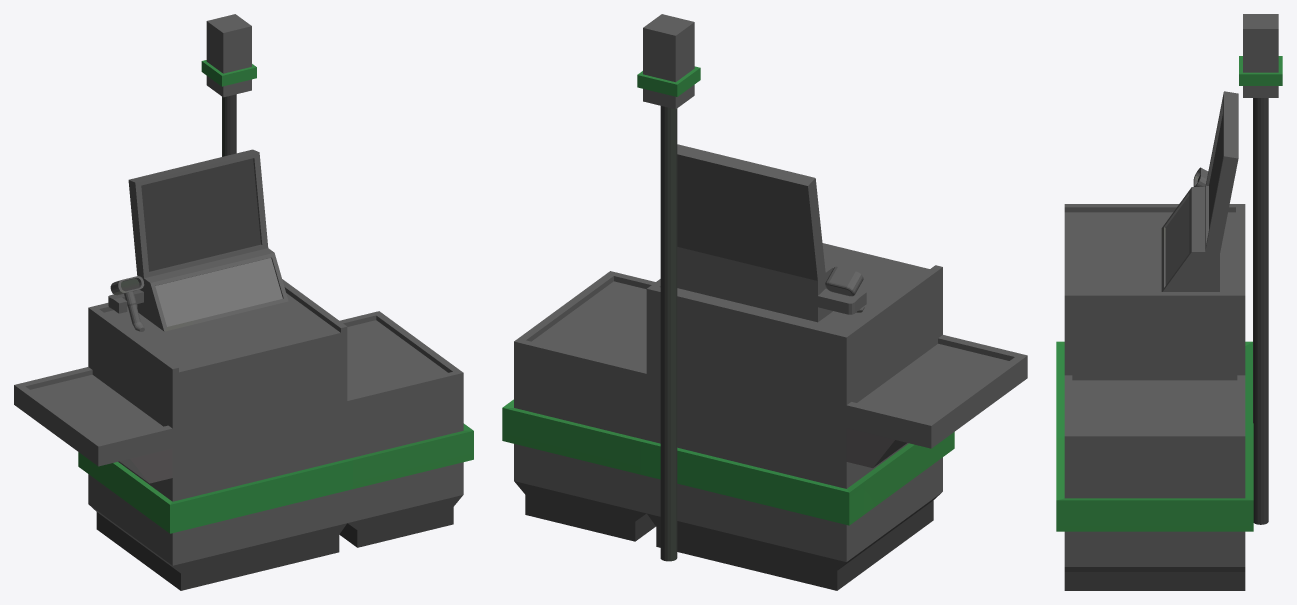
Rendered from SelfCheckout.fbx.
3 renders of one model, left to right at view 1: azimuth 30°, elevation 25°; view 2: azimuth 150°, elevation 25°; view 3: azimuth 270°, elevation 25°, orthographic. The views are drawn at different scales.
Parts seen in each view (by area): view 1: SelfCheckout, SelfCheckoutLight; view 2: SelfCheckout, SelfCheckoutLight; view 3: SelfCheckout, SelfCheckoutLight.
Part boxes in pixels (x1,y1,x2,y2): SelfCheckout: [14, 14, 463, 590]; SelfCheckoutLight: [78, 60, 473, 533]; SelfCheckout: [514, 14, 1027, 590]; SelfCheckoutLight: [502, 66, 954, 525]; SelfCheckout: [1064, 14, 1278, 590]; SelfCheckoutLight: [1056, 56, 1282, 531].
Size of the model in its own units: 421 by 504 by 207.
